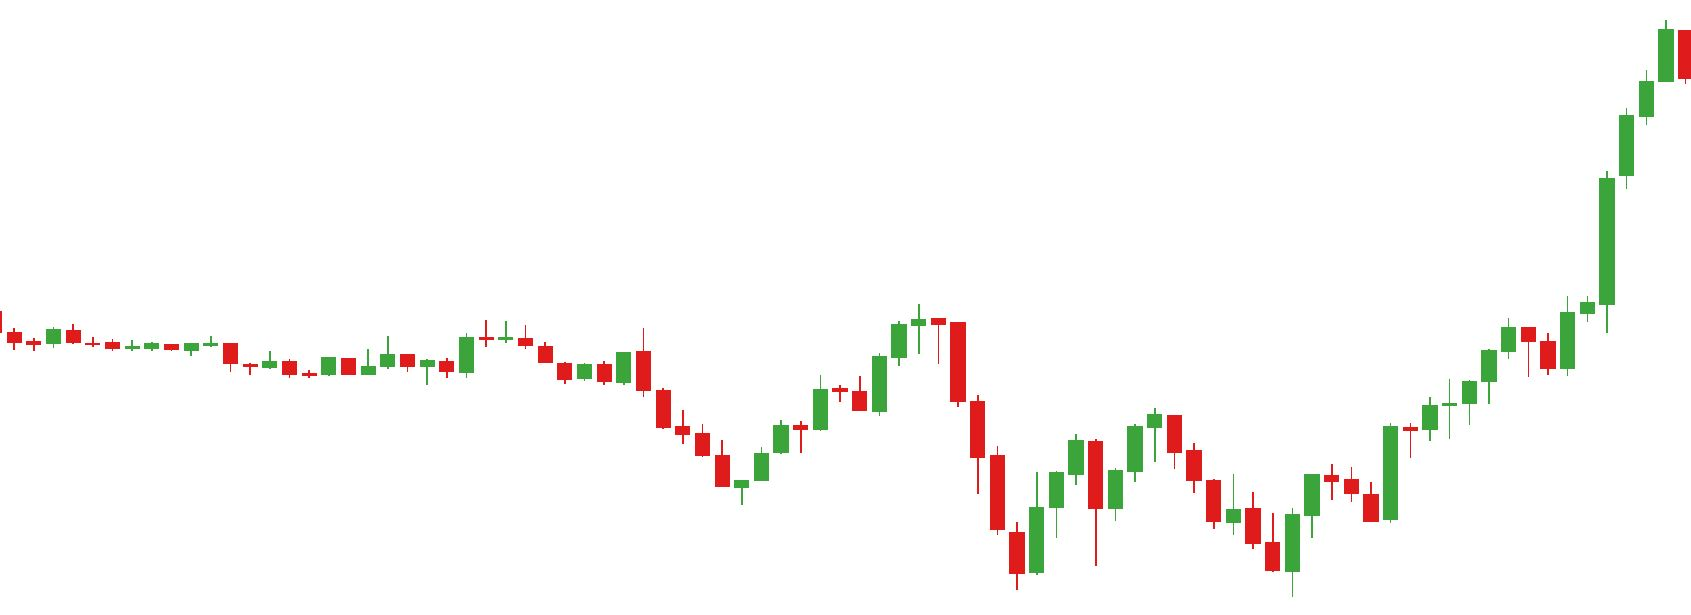buy: (731, 395, 1066, 594), (1085, 448, 1303, 600)
